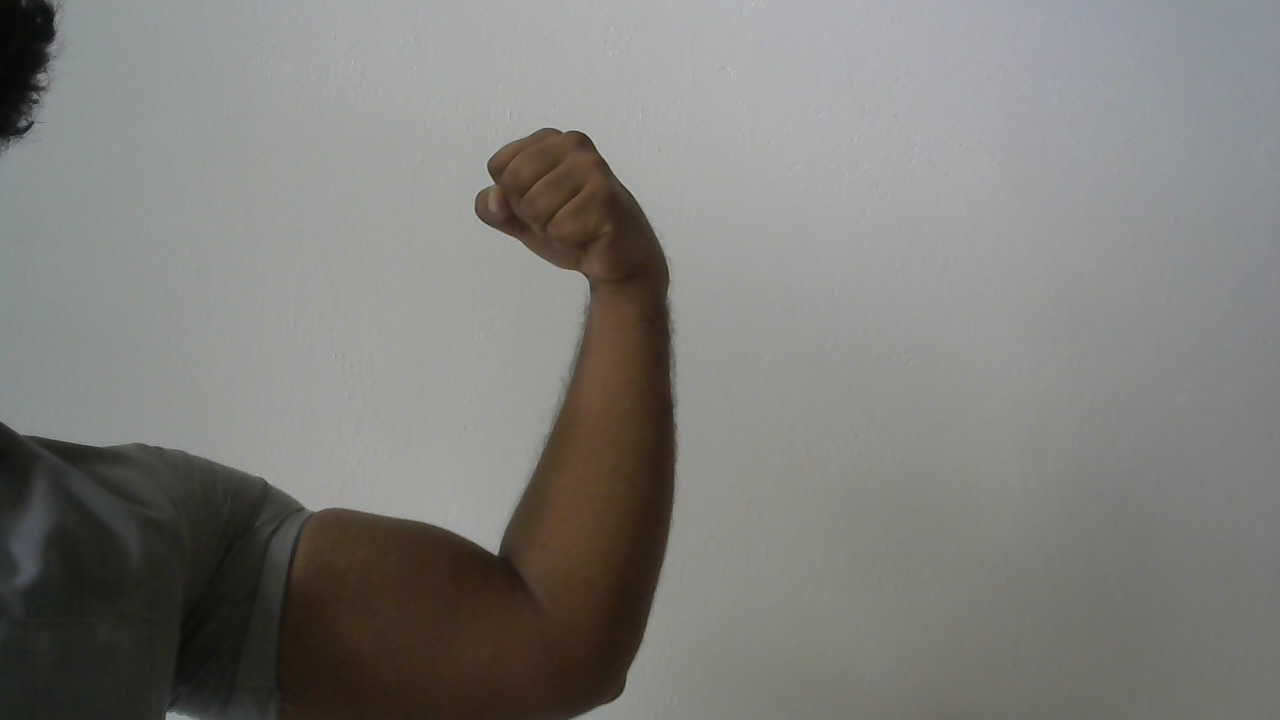yes: (467, 110, 683, 340)
